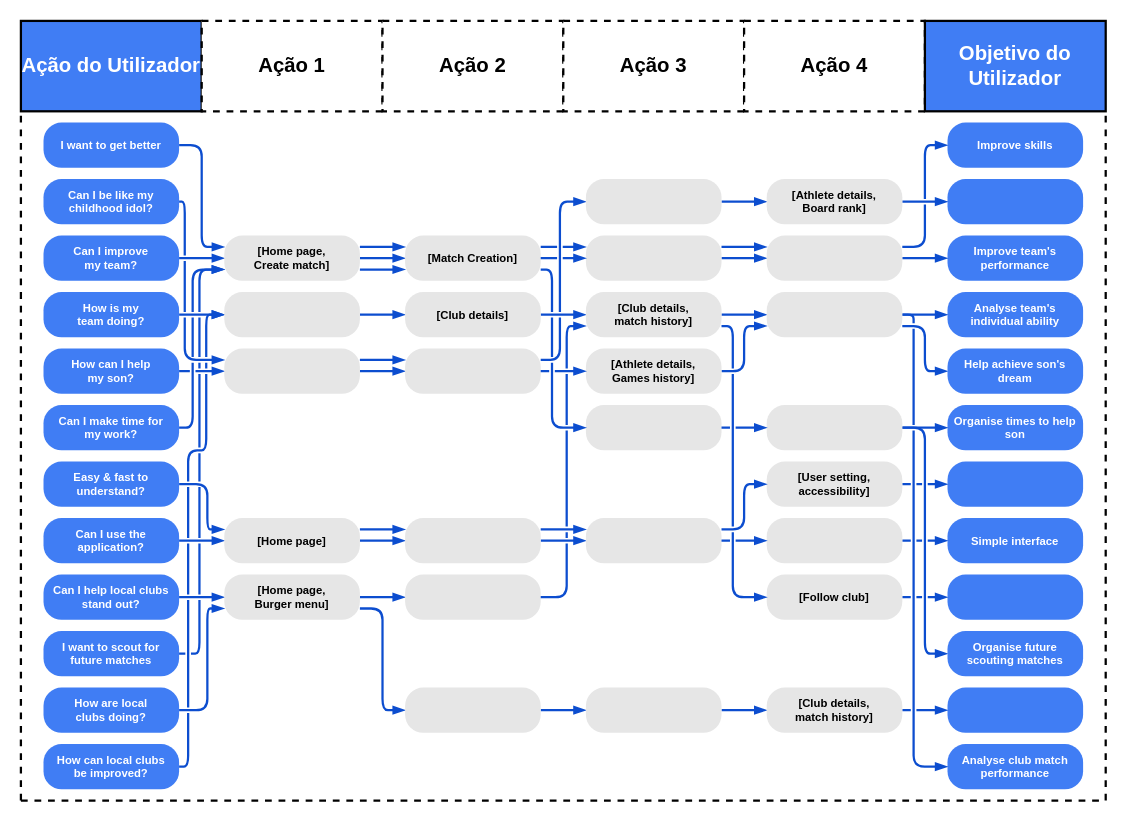
This 1127x822 diagram has some shape labels left out. The shapes that lost their labels are listed below. From the top down, each one's centre as x and y in pixels, then its label:
At pixel 653 201: "[Athlete details, performance]".
At pixel 1015 201: "Aspire to become like idol".
At pixel 653 257: "[Events]".
At pixel 834 257: "[Games, Game details]".
At pixel 291 314: "[Home page, Saved clubs]".
At pixel 834 314: "[Game details]".
At pixel 291 370: "[Home page, Saved Athletes]".
At pixel 472 370: "[Athlete details]".
At pixel 653 427: "[Watching]".
At pixel 834 427: "[Watching details]".
At pixel 1015 483: "Simple to use".
At pixel 472 540: "[User Profile]".
At pixel 653 540: "[User Settings]".
At pixel 834 540: "[About]".
At pixel 472 596: "[Clubs, search]".
At pixel 1015 596: "Help local clubs be known".
At pixel 472 709: "[Boards]".
At pixel 653 709: "[Search, filter results]".
At pixel 1015 709: "Stay on top of club(s) happenings".
